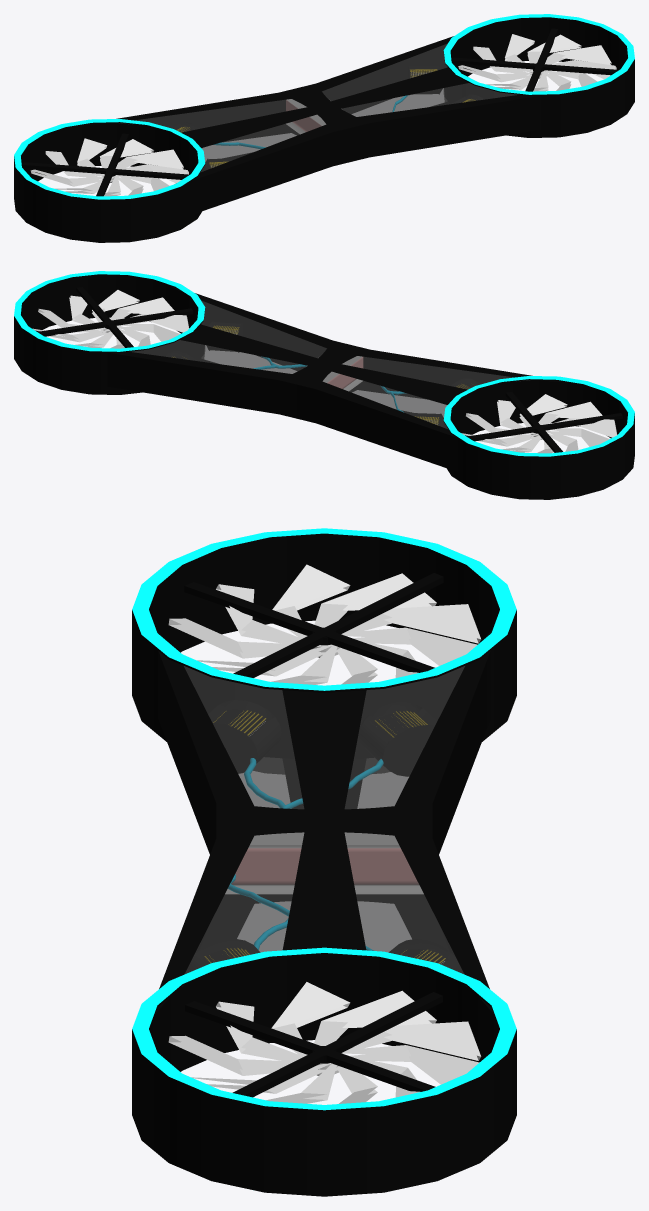
Rendered from CyberHoverboard.fbx.
3 views of the same model, one above another, from view 1: azimuth 30°, elevation 25°; view 2: azimuth 150°, elevation 25°; view 3: azimuth 270°, elevation 25° (orthographic). The views are drawn at different scales.
Parts seen in each view (by area): view 1: polySurface4, pPipe4, pPipe5, pCube4, pCube7, pCube8, pCube6, pCube5; view 2: polySurface4, pPipe4, pPipe5, pCube6, pCube5, pCube8, pCube4, pCube7; view 3: polySurface4, pPipe5, pPipe4, pCube8, pCylinder5 (×2), pCube6, pCube5, pCube4, pCube7.
Part boxes in pixels (bbox=[...]): polySurface4: bbox=[14, 14, 634, 242]; pPipe4: bbox=[30, 138, 188, 196]; pPipe5: bbox=[458, 34, 616, 91]; pCube4: bbox=[22, 162, 189, 179]; pCube7: bbox=[451, 57, 618, 75]; pCube8: bbox=[286, 99, 325, 134]; pCube6: bbox=[525, 28, 558, 91]; pCube5: bbox=[96, 133, 128, 196]; polySurface4: bbox=[14, 271, 634, 499]; pPipe4: bbox=[461, 394, 617, 453]; pPipe5: bbox=[32, 290, 189, 348]; pCube6: bbox=[38, 308, 193, 336]; pCube5: bbox=[467, 413, 622, 441]; pCube8: bbox=[323, 356, 363, 391]; pCube4: bbox=[505, 392, 562, 452]; pCube7: bbox=[76, 287, 133, 347]; polySurface4: bbox=[132, 528, 516, 1196]; pPipe5: bbox=[168, 982, 481, 1103]; pPipe4: bbox=[168, 564, 481, 684]; pCube8: bbox=[225, 832, 423, 894]; pCylinder5 (×2): bbox=[208, 700, 436, 776]; pCube6: bbox=[185, 1001, 435, 1091]; pCube5: bbox=[184, 582, 434, 672]; pCube4: bbox=[233, 573, 443, 677]; pCube7: bbox=[232, 992, 442, 1097].
Size of the model in its own units: 94.39 by 6.54 by 26.37.
